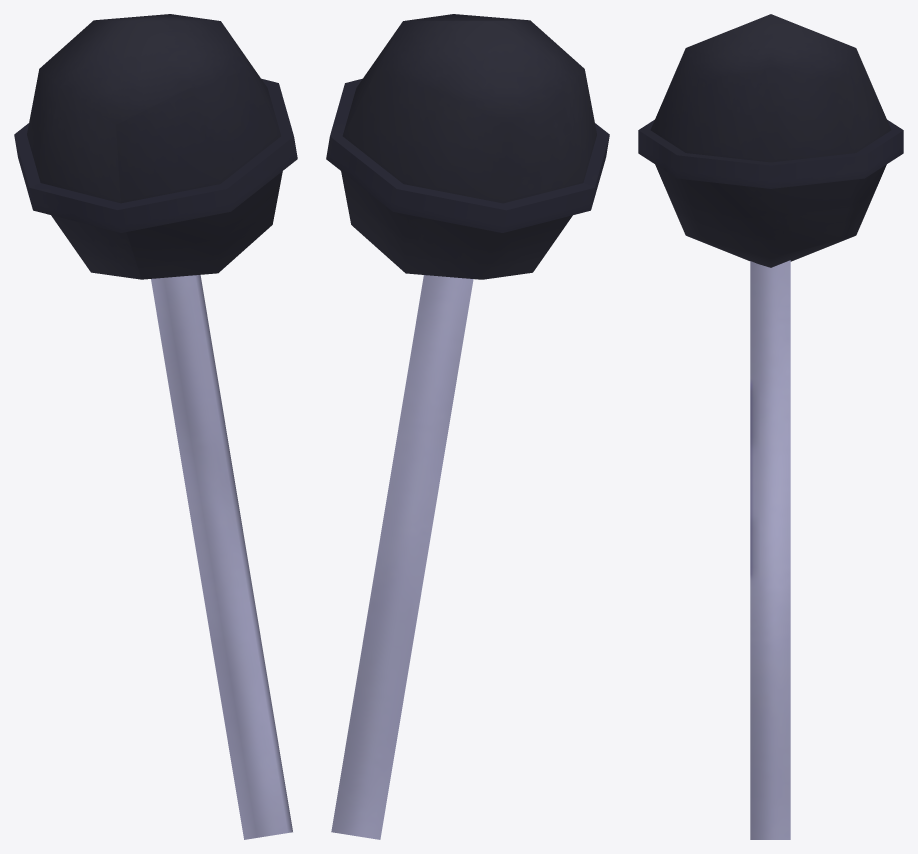
Rendered from noxipop.glb.
The picture shows the model from 3 angles, left to right: view 1: azimuth 30°, elevation 25°; view 2: azimuth 150°, elevation 25°; view 3: azimuth 270°, elevation 25°; orthographic projection. The views are drawn at different scales.
Visible parts, largest first — view 1: Noxipop, Stick; view 2: Noxipop, Stick; view 3: Noxipop, Stick.
Boxes of the visible parts, x1,y1,x2,y2 form: Noxipop: [14, 14, 297, 279]; Stick: [151, 275, 292, 839]; Noxipop: [326, 14, 609, 279]; Stick: [331, 275, 473, 839]; Noxipop: [638, 14, 903, 267]; Stick: [750, 260, 790, 839].
Size of the model in its own units: 0.0335 by 0.1068 by 0.0335.
1 material, 1 textured.
